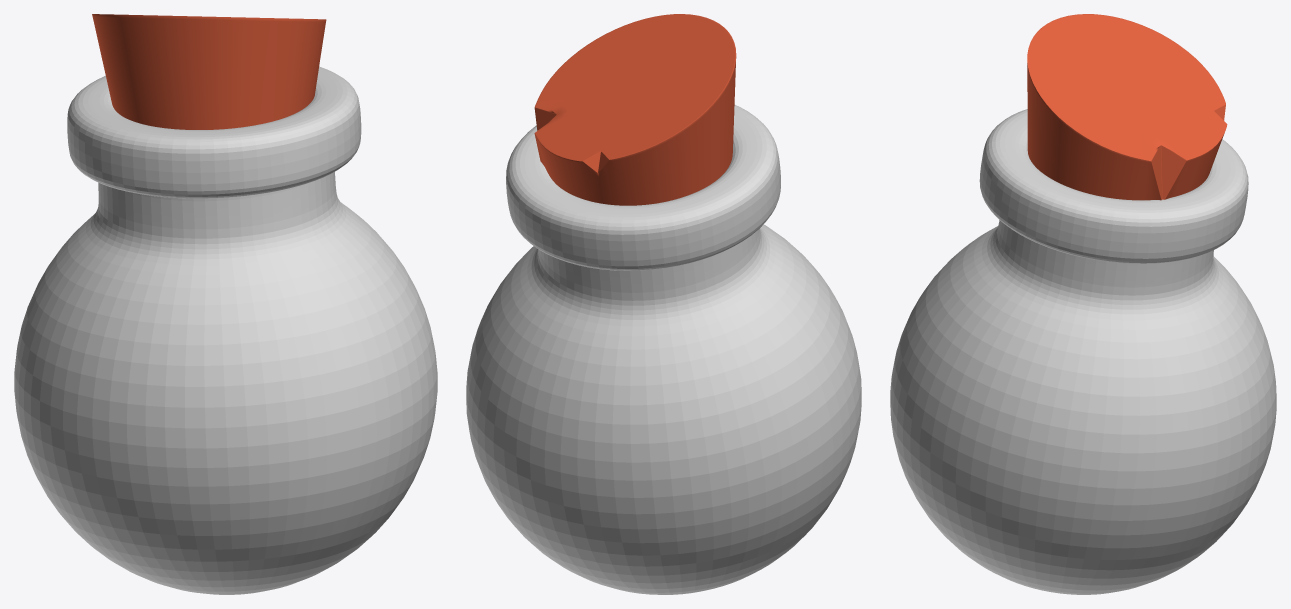
File: potion1.1.fbx
3 renders of one model, left to right at view 1: azimuth 30°, elevation 25°; view 2: azimuth 150°, elevation 25°; view 3: azimuth 270°, elevation 25°, orthographic. The views are drawn at different scales.
Visible parts, largest first — view 1: bottle; view 2: bottle; view 3: bottle.
Part boxes in pixels (bbox=[...]): bottle: bbox=[14, 14, 437, 594]; bottle: bbox=[466, 14, 861, 594]; bottle: bbox=[890, 14, 1276, 594].
Bounding box in the file's own units: 41.75 × 63.57 × 41.74.
